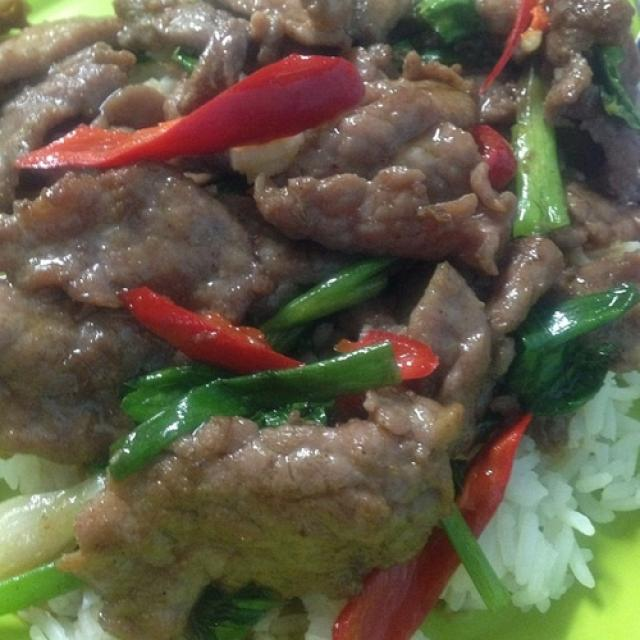牛肉菜式: (26, 15, 620, 616)
